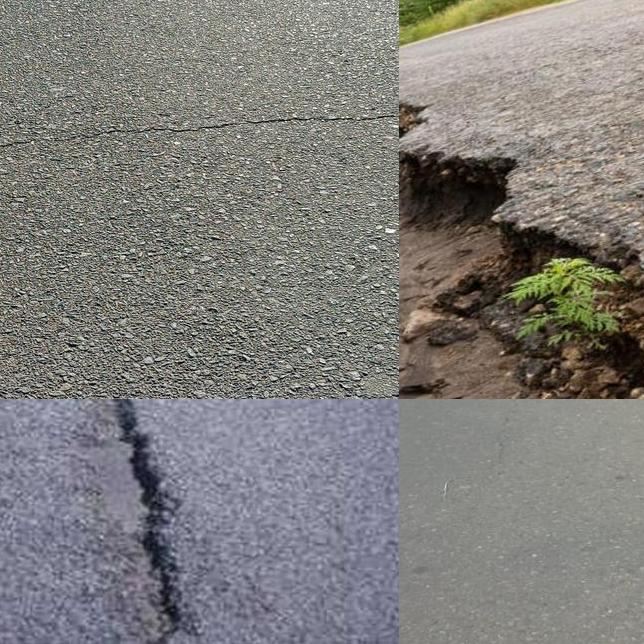Melintang: (0, 98, 399, 164)
Memanjang: (92, 399, 207, 644)
Pinggir: (399, 93, 644, 389)
